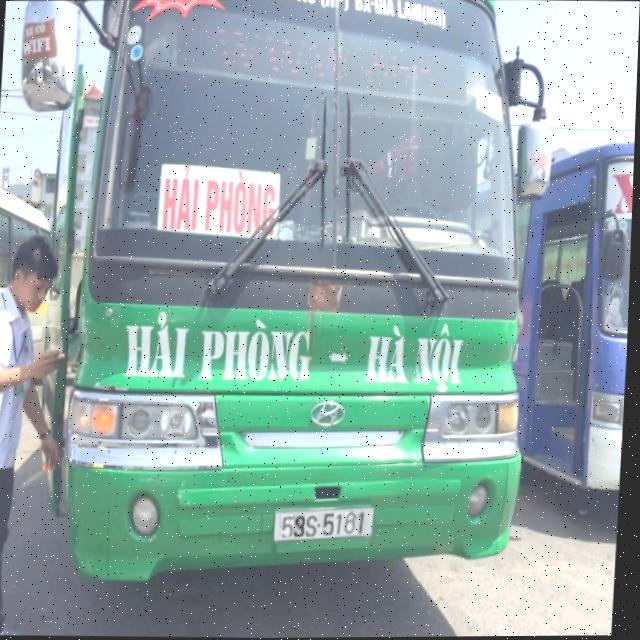car: (18, 11, 562, 595), (495, 135, 635, 539)
plate: (267, 502, 380, 547)
